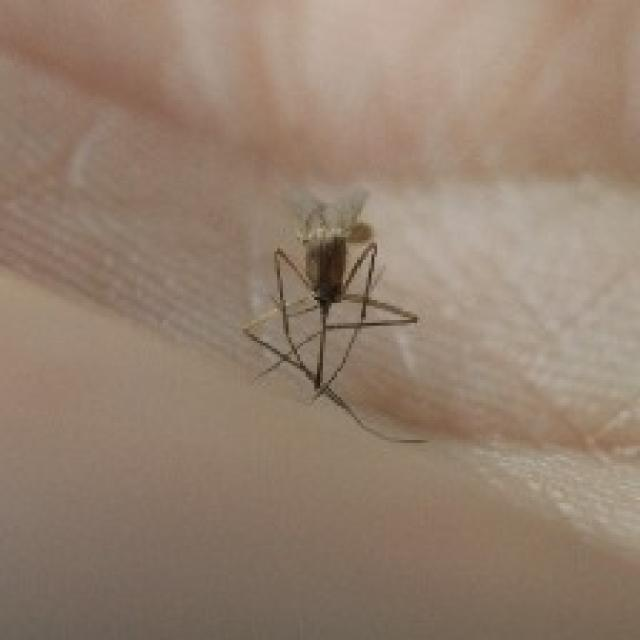culex: (240, 180, 429, 446)
